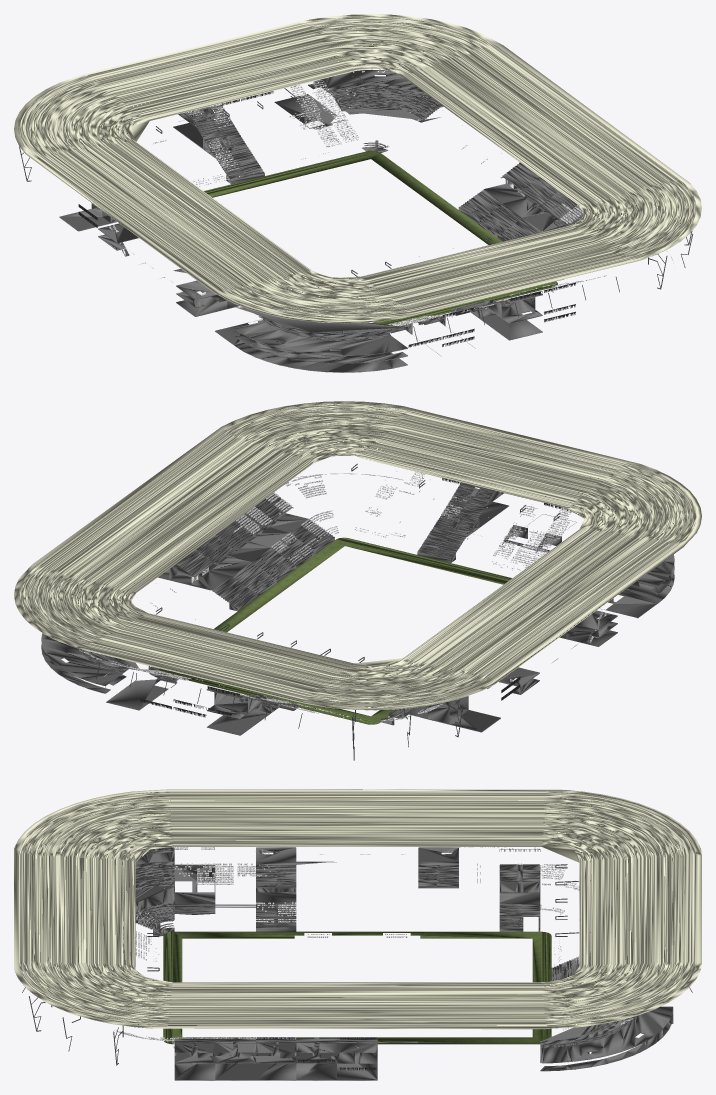
Rendered from modern_stadium_part03.glb.
3 renders of one model, top to bottom at view 1: azimuth 30°, elevation 25°; view 2: azimuth 150°, elevation 25°; view 3: azimuth 270°, elevation 25°, orthographic. The views are drawn at different scales.
Parts seen in each view (by area): view 1: Material2.147, Material2.002, Material3.037, Material2.026+Material2.071+Material2.076, Material2.069, Material2.019, Material2.029+Material2.044; view 2: Material2.147, Material2.002, Material2.026+Material2.071+Material2.076, Material3.037, Material2.069, Material2.019, Material2.029+Material2.044; view 3: Material2.147, Material2.002, Material3.037, Material2.026+Material2.071+Material2.076, Material2.069, Material2.029+Material2.044.
Part boxes in pixels (x1=…): Material2.147: x1=14, y1=14, x2=701, y2=323; Material2.002: x1=59, y1=69, x2=594, y2=363; Material3.037: x1=203, y1=150, x2=557, y2=324; Material2.026+Material2.071+Material2.076: x1=109, y1=69, x2=674, y2=326; Material2.069: x1=234, y1=107, x2=440, y2=372; Material2.019: x1=78, y1=91, x2=575, y2=347; Material2.029+Material2.044: x1=19, y1=76, x2=692, y2=341; Material2.147: x1=14, y1=401, x2=701, y2=710; Material2.002: x1=41, y1=482, x2=674, y2=735; Material2.026+Material2.071+Material2.076: x1=41, y1=472, x2=606, y2=721; Material3.037: x1=158, y1=537, x2=512, y2=724; Material2.069: x1=109, y1=562, x2=674, y2=685; Material2.019: x1=140, y1=478, x2=571, y2=717; Material2.029+Material2.044: x1=96, y1=463, x2=559, y2=760; Material2.147: x1=14, y1=789, x2=701, y2=1029; Material2.002: x1=123, y1=847, x2=673, y2=1080; Material3.037: x1=163, y1=931, x2=551, y2=1044; Material2.026+Material2.071+Material2.076: x1=114, y1=847, x2=632, y2=1048; Material2.069: x1=123, y1=887, x2=598, y2=1054; Material2.029+Material2.044: x1=22, y1=864, x2=692, y2=1065.
Bounding box in the file's own units: 181 × 28.76 × 220.
11 materials, 7 textured.
